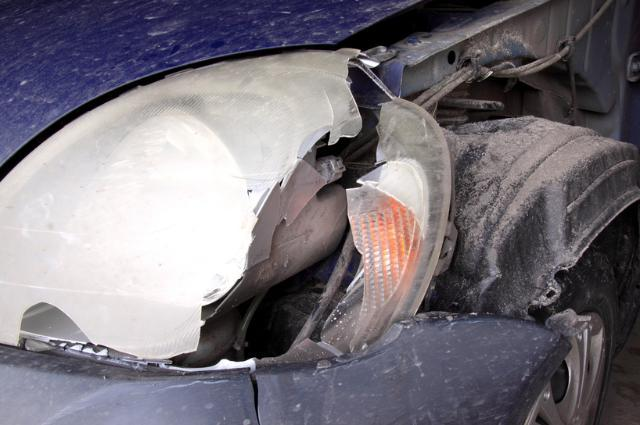Light: (12, 94, 420, 357)
